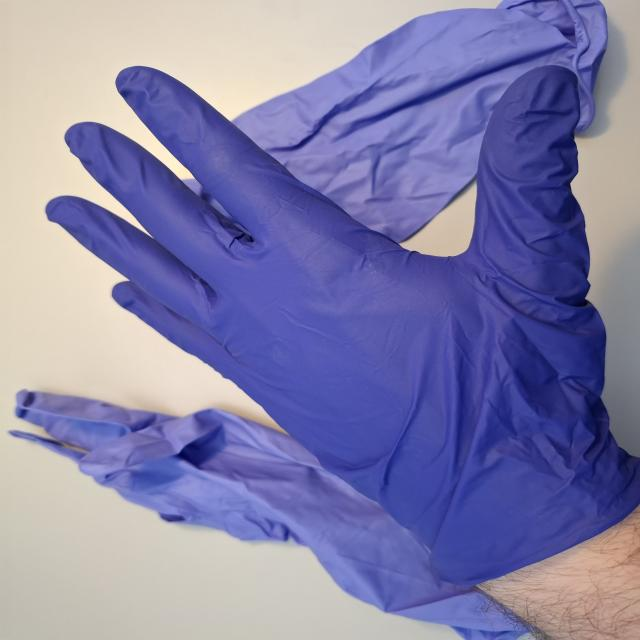glove_on: (42, 62, 640, 587)
